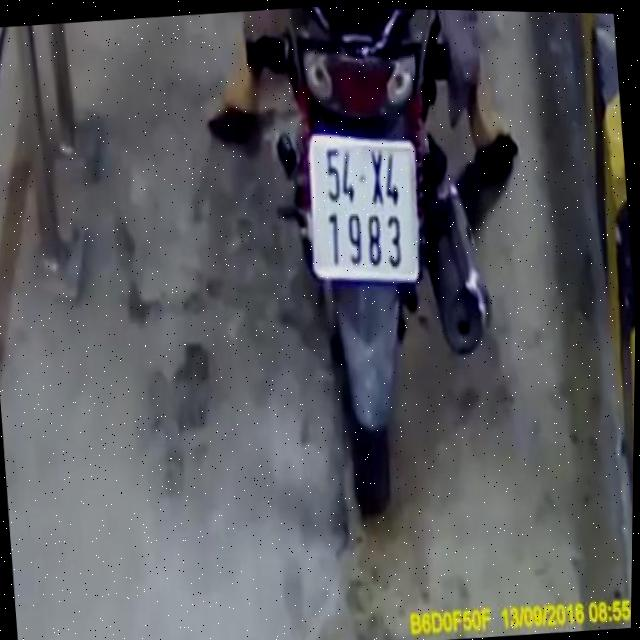motorcycle: (227, 5, 517, 536)
plate: (296, 120, 432, 296)
